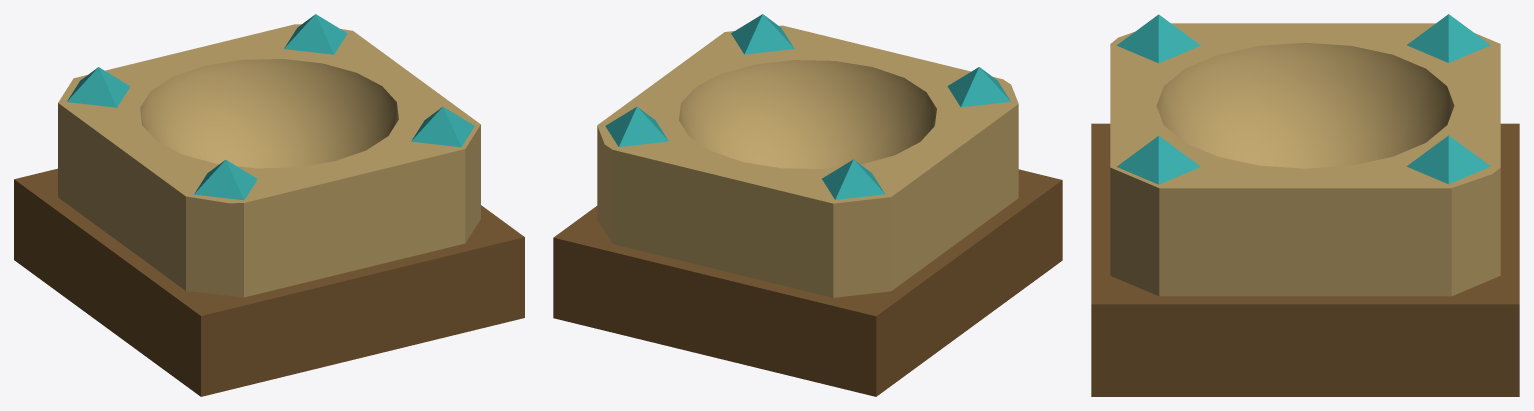
The model's file is reciever.fbx.
3 views of the same model, side by side, from view 1: azimuth 30°, elevation 25°; view 2: azimuth 150°, elevation 25°; view 3: azimuth 270°, elevation 25° (orthographic). The views are drawn at different scales.
Visible parts, largest first — view 1: pCone14; view 2: pCone14; view 3: pCone14.
Boxes of the visible parts, bbox=[...] form: pCone14: bbox=[14, 14, 524, 396]; pCone14: bbox=[553, 14, 1062, 396]; pCone14: bbox=[1091, 14, 1519, 396].
Size of the model in its own units: 2 by 1.2 by 2.
